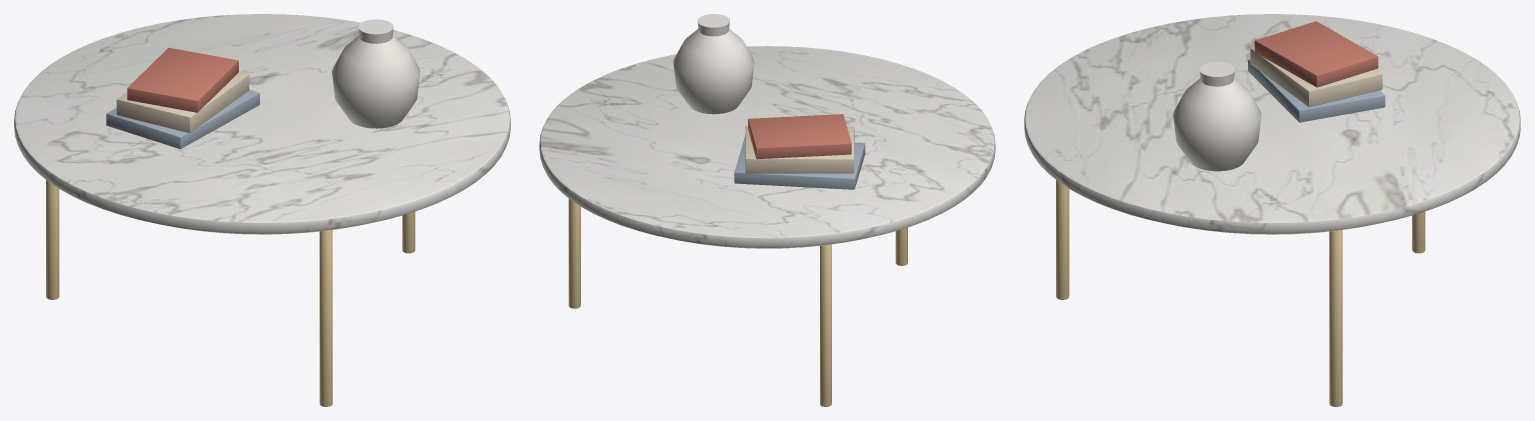
File: mesa-centro-marmol-v2.gltf
The picture shows the model from 3 angles, left to right: view 1: azimuth 30°, elevation 25°; view 2: azimuth 150°, elevation 25°; view 3: azimuth 270°, elevation 25°; orthographic projection. The views are drawn at different scales.
Parts seen in each view (by area): view 1: mesa-centro-marmol__s_marmol, mesa-centro-marmol__c_mate, mesa-centro-marmol__m_laton, mesa-centro-marmol__p_libro3, mesa-centro-marmol__p_libro2, mesa-centro-marmol__p_libro1; view 2: mesa-centro-marmol__s_marmol, mesa-centro-marmol__c_mate, mesa-centro-marmol__p_libro3, mesa-centro-marmol__m_laton, mesa-centro-marmol__p_libro1, mesa-centro-marmol__p_libro2; view 3: mesa-centro-marmol__s_marmol, mesa-centro-marmol__c_mate, mesa-centro-marmol__p_libro3, mesa-centro-marmol__m_laton, mesa-centro-marmol__p_libro2, mesa-centro-marmol__p_libro1.
Part boxes in pixels (bbox=[...]): mesa-centro-marmol__s_marmol: bbox=[14, 14, 510, 233]; mesa-centro-marmol__c_mate: bbox=[332, 19, 420, 128]; mesa-centro-marmol__m_laton: bbox=[46, 180, 415, 406]; mesa-centro-marmol__p_libro3: bbox=[127, 47, 238, 112]; mesa-centro-marmol__p_libro2: bbox=[116, 71, 249, 132]; mesa-centro-marmol__p_libro1: bbox=[106, 89, 259, 148]; mesa-centro-marmol__s_marmol: bbox=[539, 46, 995, 247]; mesa-centro-marmol__c_mate: bbox=[673, 14, 754, 114]; mesa-centro-marmol__p_libro3: bbox=[748, 114, 851, 159]; mesa-centro-marmol__m_laton: bbox=[568, 198, 907, 406]; mesa-centro-marmol__p_libro1: bbox=[734, 137, 865, 189]; mesa-centro-marmol__p_libro2: bbox=[745, 126, 854, 173]; mesa-centro-marmol__s_marmol: bbox=[1024, 14, 1520, 233]; mesa-centro-marmol__c_mate: bbox=[1173, 62, 1261, 171]; mesa-centro-marmol__p_libro3: bbox=[1254, 21, 1378, 87]; mesa-centro-marmol__m_laton: bbox=[1056, 180, 1425, 406]; mesa-centro-marmol__p_libro2: bbox=[1250, 47, 1382, 107]; mesa-centro-marmol__p_libro1: bbox=[1248, 59, 1385, 122].
Size of the model in its own units: 0.9 by 0.58 by 0.9.
Materials: 7 (1 with a texture image).
